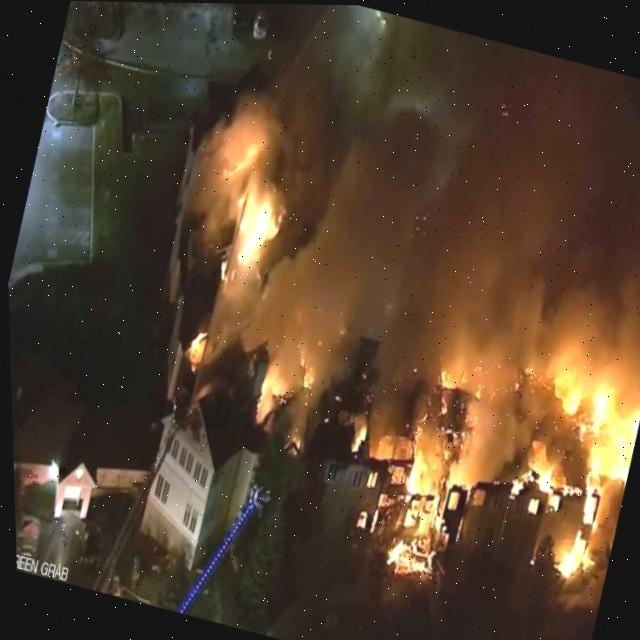fire: (501, 375, 639, 588), (376, 449, 460, 585), (229, 181, 278, 261)
smoke: (183, 4, 640, 488)
